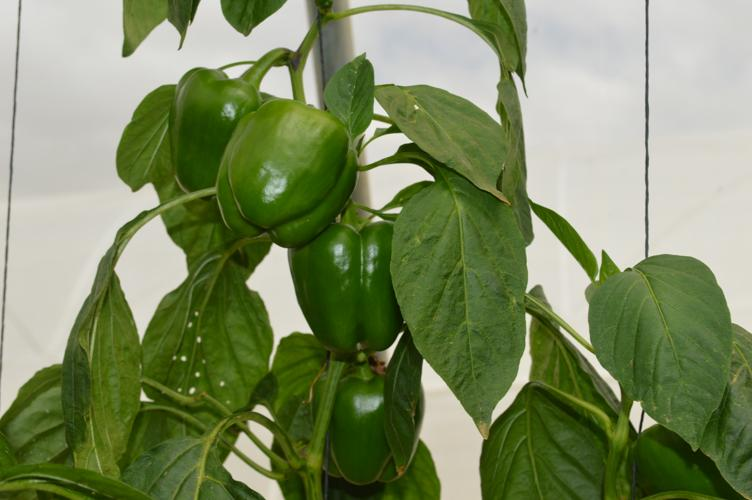BellPepper: (216, 99, 359, 253), (294, 223, 401, 354), (320, 365, 419, 483), (167, 66, 249, 194)
